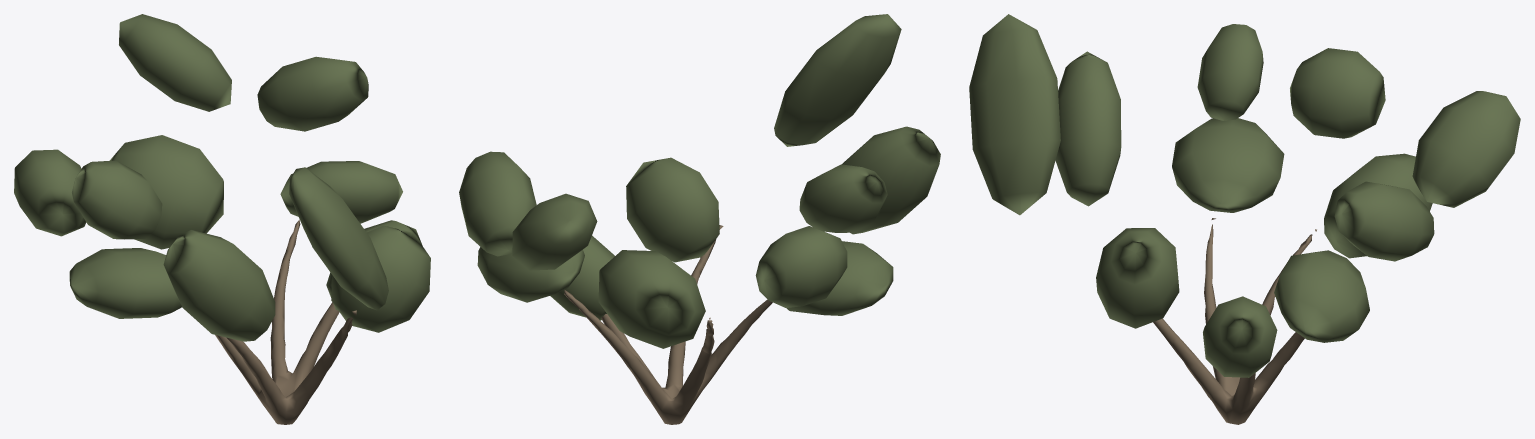
Rendered from Ciste_0_Niveau2.fbx.
3 renders of one model, left to right at view 1: azimuth 30°, elevation 25°; view 2: azimuth 150°, elevation 25°; view 3: azimuth 270°, elevation 25°, orthographic.
Parts seen in each view (by area): view 1: Ciste_0_Niveau2_Jeu; view 2: Ciste_0_Niveau2_Jeu; view 3: Ciste_0_Niveau2_Jeu.
Part boxes in pixels (box(x1,y1,x2,y2)): Ciste_0_Niveau2_Jeu: box(14, 14, 430, 424); Ciste_0_Niveau2_Jeu: box(459, 14, 940, 424); Ciste_0_Niveau2_Jeu: box(969, 14, 1520, 424).
Size of the model in its own units: 58.55 by 53.79 by 75.54.
